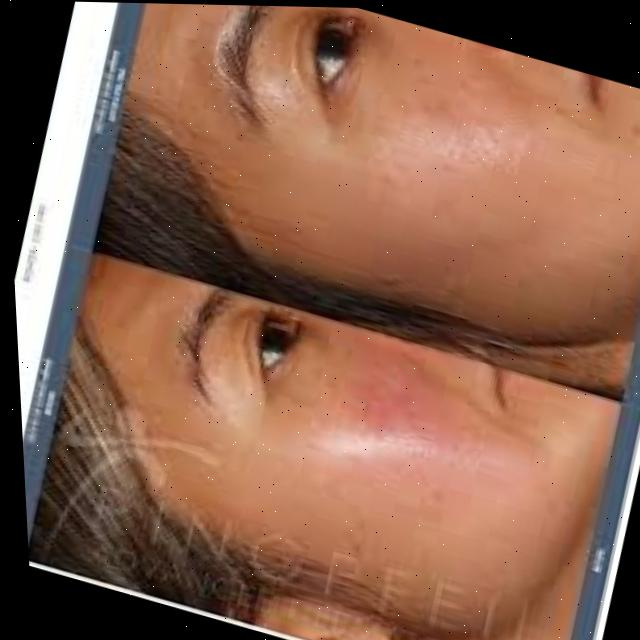Rosacea: (301, 348, 503, 526)
